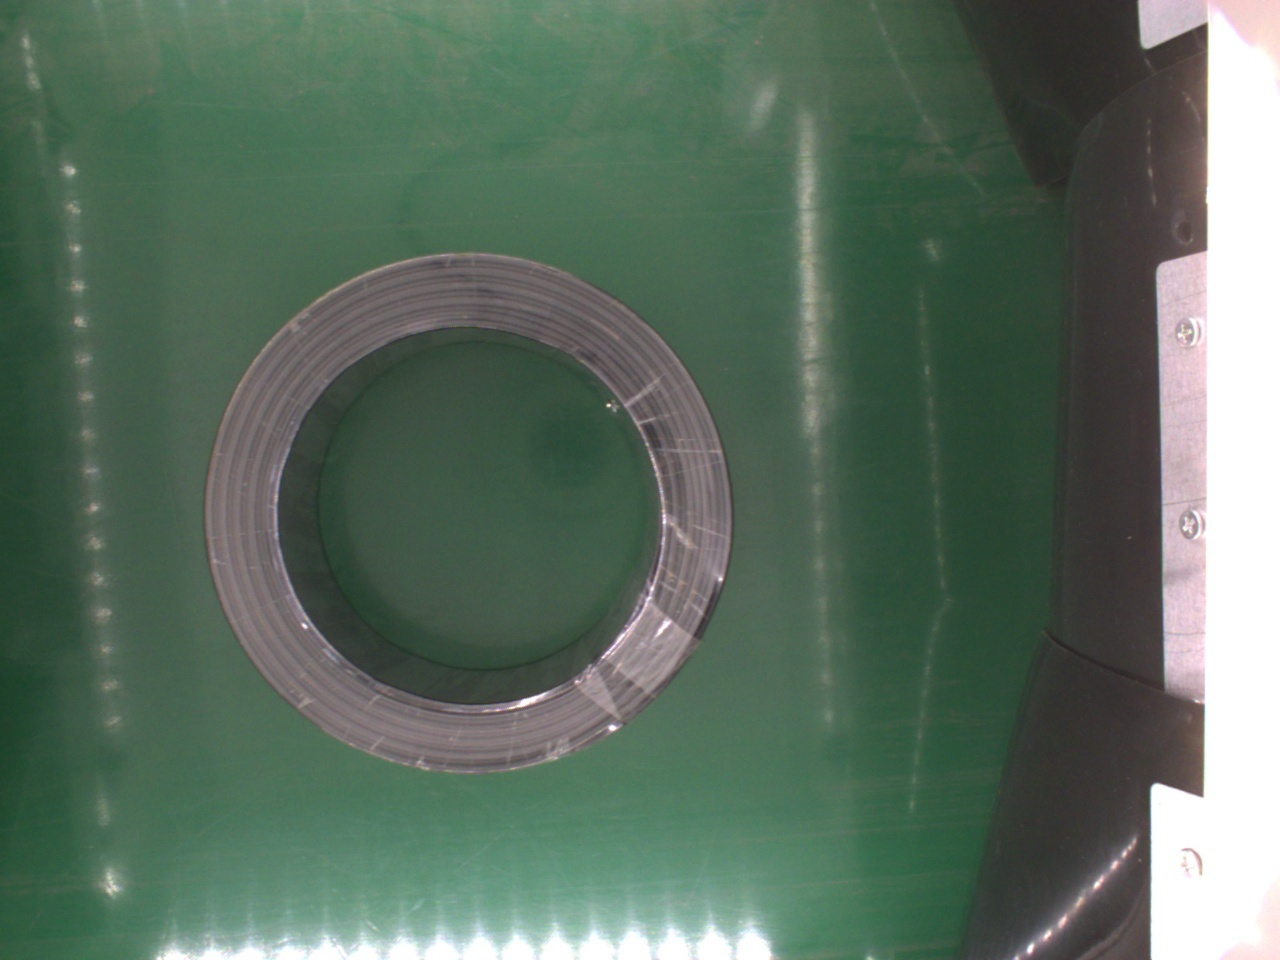black: (203, 247, 734, 786)
